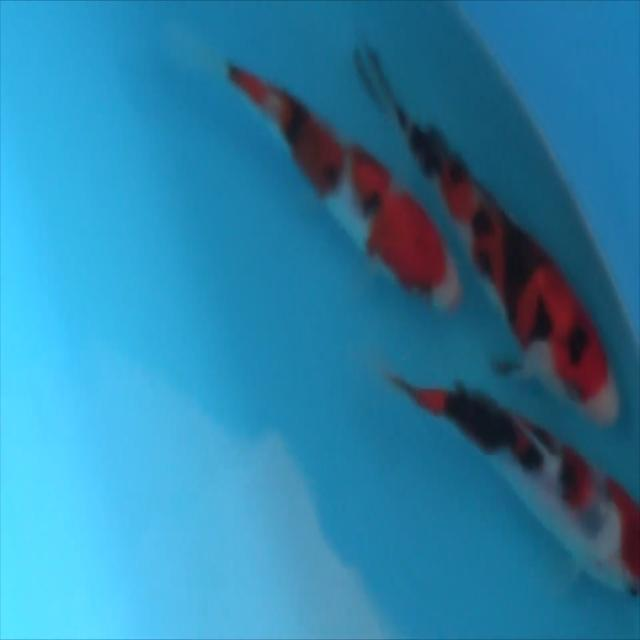Sanke: (352, 39, 620, 429), (225, 58, 462, 313), (384, 367, 639, 598)
